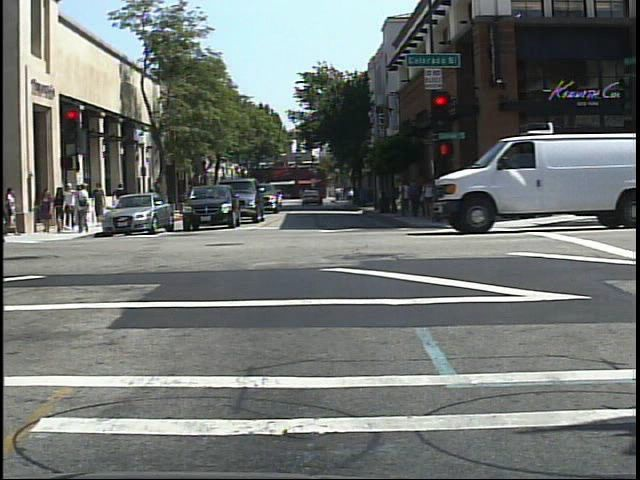person: (72, 180, 94, 237)
